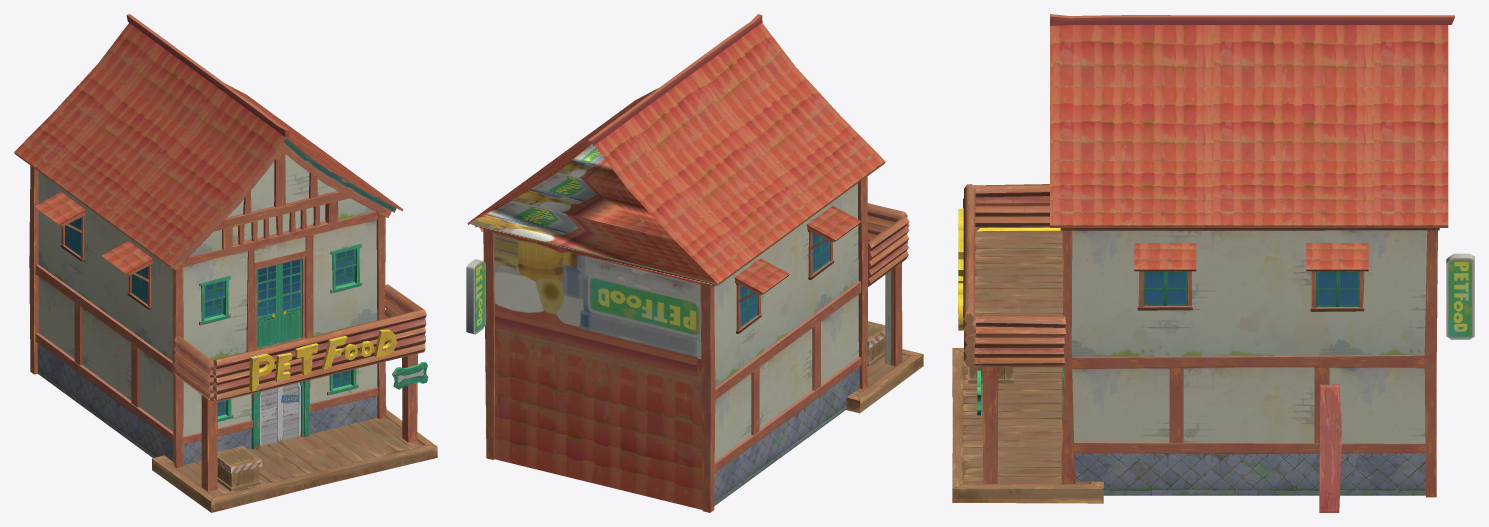
Rendered from Chapter03_Buggy_building01_LOD.fbx.
3 renders of one model, left to right at view 1: azimuth 30°, elevation 25°; view 2: azimuth 150°, elevation 25°; view 3: azimuth 270°, elevation 25°, orthographic. The views are drawn at different scales.
Visible parts, largest first — view 1: Chapter03_Buggy_building01_LOD; view 2: Chapter03_Buggy_building01_LOD; view 3: Chapter03_Buggy_building01_LOD.
Boxes of the visible parts, box(x1,y1,x2,y2) form: Chapter03_Buggy_building01_LOD: box(14, 14, 437, 512); Chapter03_Buggy_building01_LOD: box(466, 14, 923, 512); Chapter03_Buggy_building01_LOD: box(952, 14, 1474, 512).
Bounding box in the file's own units: 1015 × 1238 × 1401.
